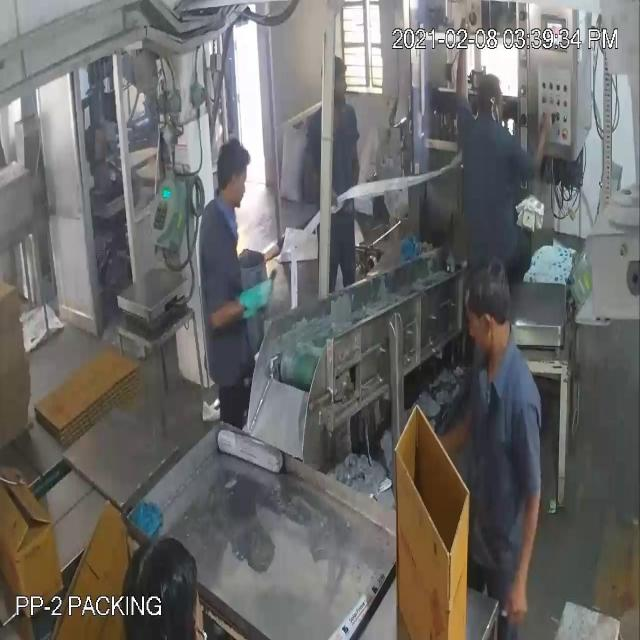Gloves: (50, 62, 524, 537)
